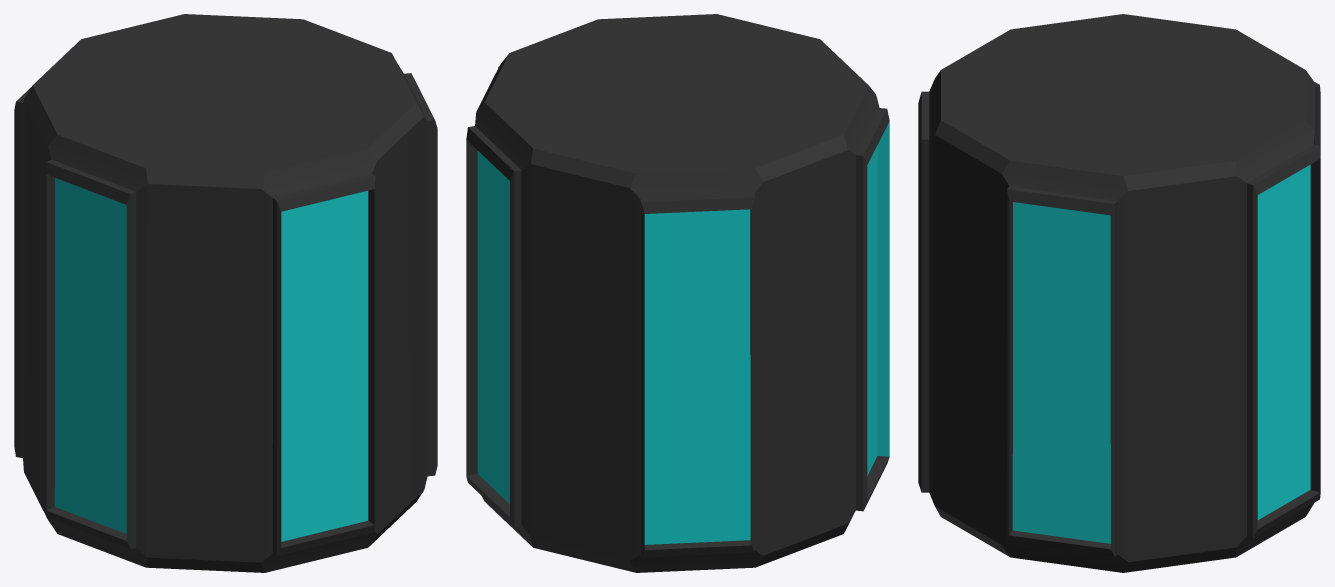
Rendered from FreezeBarrel.fbx.
3 renders of one model, left to right at view 1: azimuth 30°, elevation 25°; view 2: azimuth 150°, elevation 25°; view 3: azimuth 270°, elevation 25°, orthographic.
Visible parts, largest first — view 1: pCylinder1; view 2: pCylinder1; view 3: pCylinder1.
Boxes of the visible parts, <box> form: pCylinder1: <box>14,14,437,572</box>; pCylinder1: <box>466,14,889,572</box>; pCylinder1: <box>918,14,1320,572</box>.
Bounding box in the file's own units: 0.0216 × 0.0226 × 0.0205.
